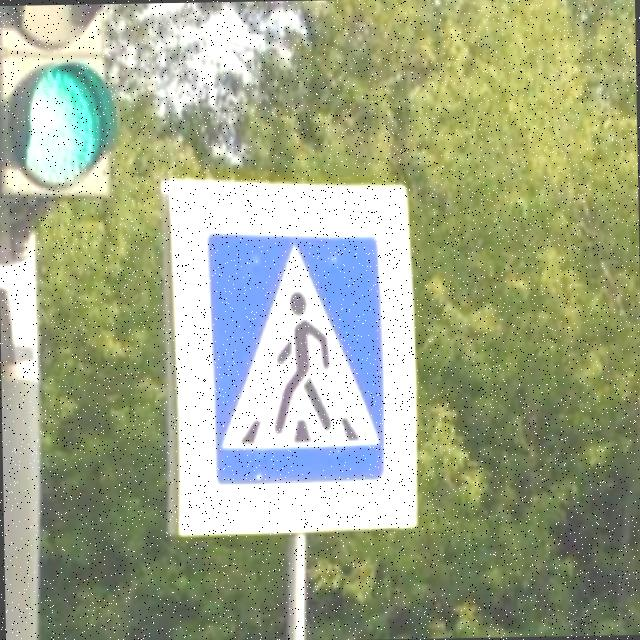Przejscie dla pieszych: (171, 173, 419, 534)
